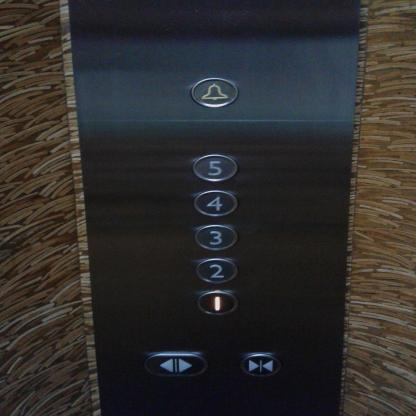1: (196, 289, 241, 317)
2: (193, 256, 239, 286)
3: (192, 222, 242, 252)
4: (190, 188, 240, 218)
5: (189, 152, 240, 183)
alarm: (187, 76, 241, 110)
close: (236, 351, 283, 378)
open: (141, 350, 209, 378)
